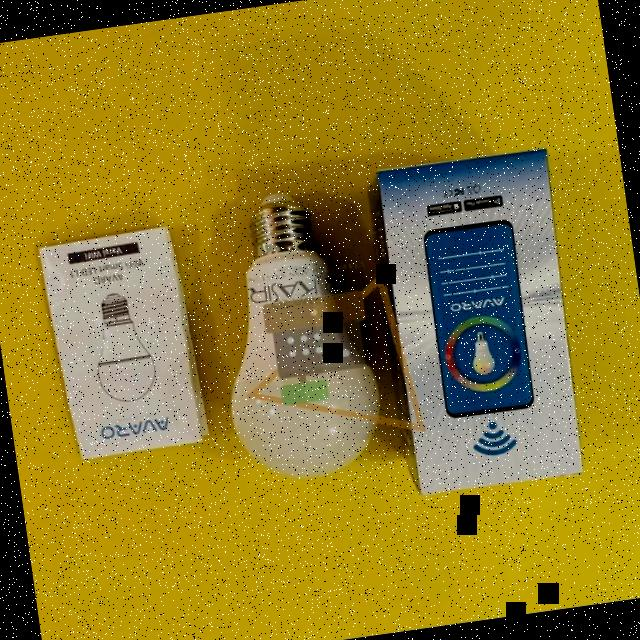light_bulb: (182, 159, 408, 500)
